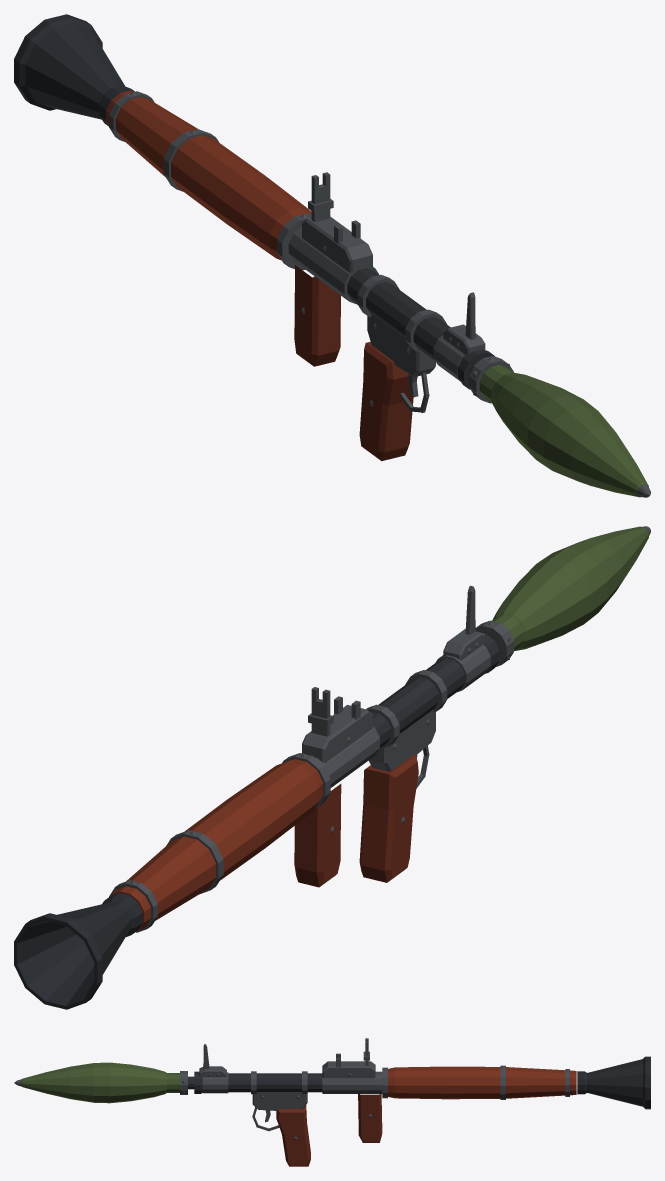
Rendered from rocket-launcher-032299.glb.
3 renders of one model, top to bottom at view 1: azimuth 30°, elevation 25°; view 2: azimuth 150°, elevation 25°; view 3: azimuth 270°, elevation 25°, orthographic. The views are drawn at different scales.
Parts seen in each view (by area): view 1: launcher-body, rocket-mesh, rear-sight-mesh; view 2: launcher-body, rocket-mesh, rear-sight-mesh; view 3: launcher-body, rocket-mesh.
Part boxes in pixels (left/top/right/bottom): launcher-body: left=14, top=14, right=494, bottom=461; rocket-mesh: left=469, top=356, right=650, bottom=497; rear-sight-mesh: left=308, top=172, right=333, bottom=221; launcher-body: left=14, top=629, right=499, bottom=1009; rocket-mesh: left=475, top=526, right=650, bottom=666; rear-sight-mesh: left=308, top=687, right=333, bottom=736; launcher-body: left=194, top=1053, right=650, bottom=1166; rocket-mesh: left=14, top=1062, right=194, bottom=1103.
Bounding box in the file's own units: 0.1053 × 0.2775 × 1.3.
